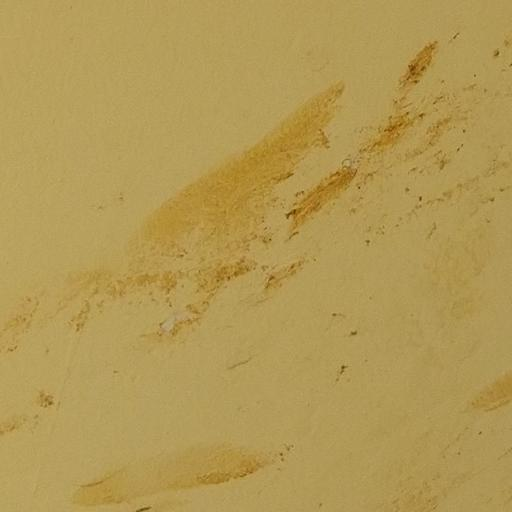stain: (74, 46, 512, 370), (6, 383, 329, 512), (388, 376, 512, 511)
